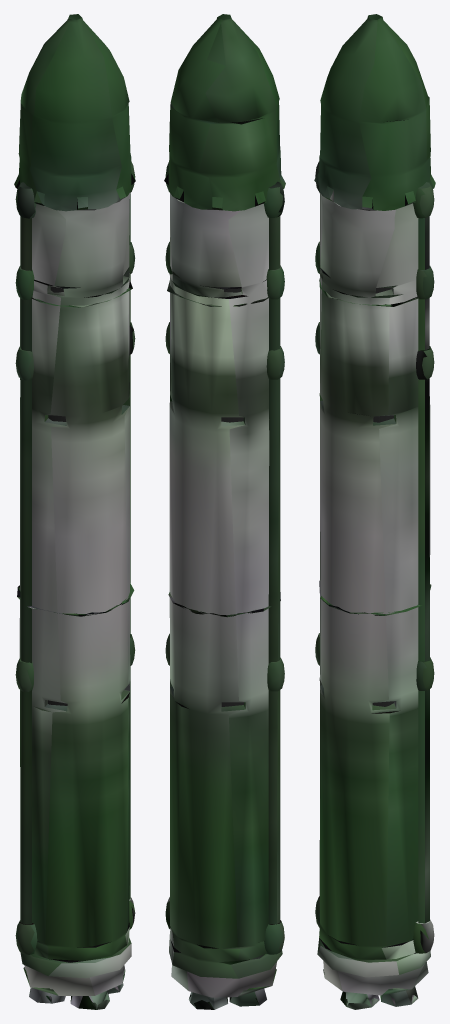
File: realistic-by.76880fe3d732.nuclear.glb
3 renders of one model, left to right at view 1: azimuth 30°, elevation 25°; view 2: azimuth 150°, elevation 25°; view 3: azimuth 330°, elevation 25°, orthographic.
Visible parts, largest first — view 1: nuclear; view 2: nuclear; view 3: nuclear.
Part boxes in pixels (bbox=[...]): nuclear: bbox=[14, 14, 135, 1009]; nuclear: bbox=[164, 14, 285, 1009]; nuclear: bbox=[314, 14, 435, 1009].
Bounding box in the file's own units: 4.25 × 34 × 3.67.
Materials: 1 (1 with a texture image).
